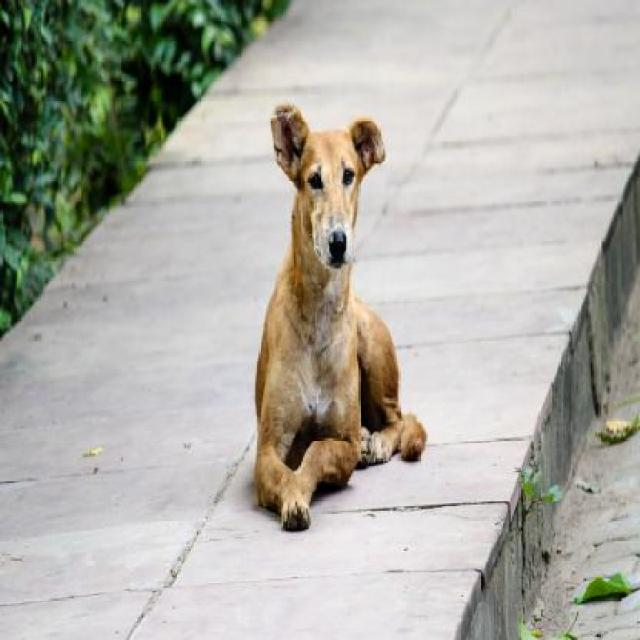dog: (246, 92, 434, 546)
